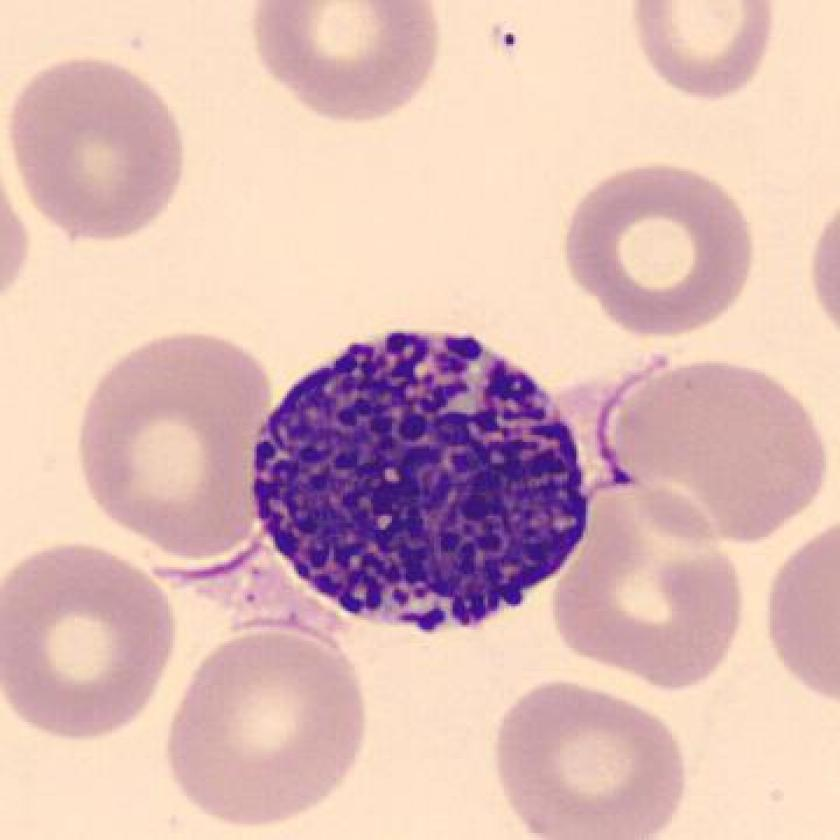basophil: (251, 313, 591, 649)
